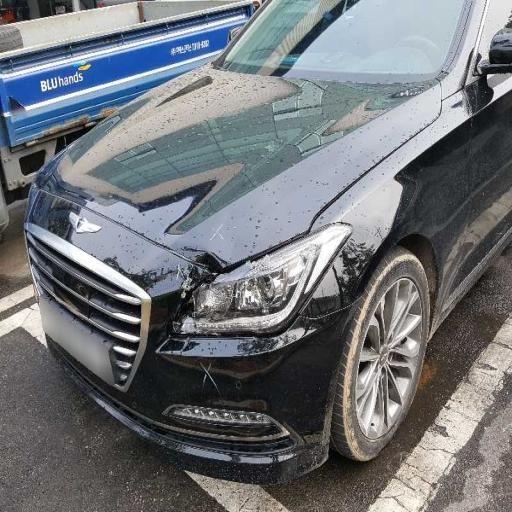broken: (156, 222, 340, 356)
scratch: (168, 322, 256, 424)
